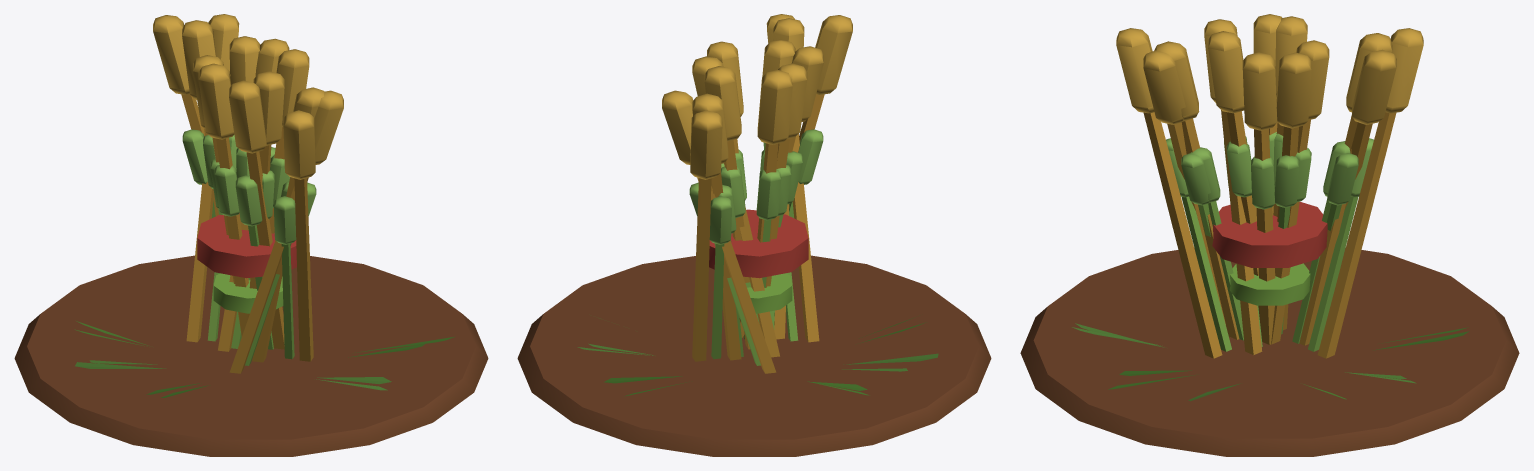
File: wheat.glb
3 renders of one model, left to right at view 1: azimuth 30°, elevation 25°; view 2: azimuth 150°, elevation 25°; view 3: azimuth 270°, elevation 25°, orthographic. The views are drawn at different scales.
Visible parts, largest first — view 1: crop-wheat-giant, crop-wheat-giant-2; view 2: crop-wheat-giant, crop-wheat-giant-2; view 3: crop-wheat-giant, crop-wheat-giant-2.
Boxes of the visible parts, bbox=[...] form: crop-wheat-giant: bbox=[14, 14, 488, 456]; crop-wheat-giant-2: bbox=[74, 129, 426, 397]; crop-wheat-giant: bbox=[517, 14, 991, 456]; crop-wheat-giant-2: bbox=[588, 129, 919, 396]; crop-wheat-giant: bbox=[1020, 14, 1519, 456]; crop-wheat-giant-2: bbox=[1072, 132, 1468, 401].
Bounding box in the file's own units: 5.61 × 4.15 × 5.7.
